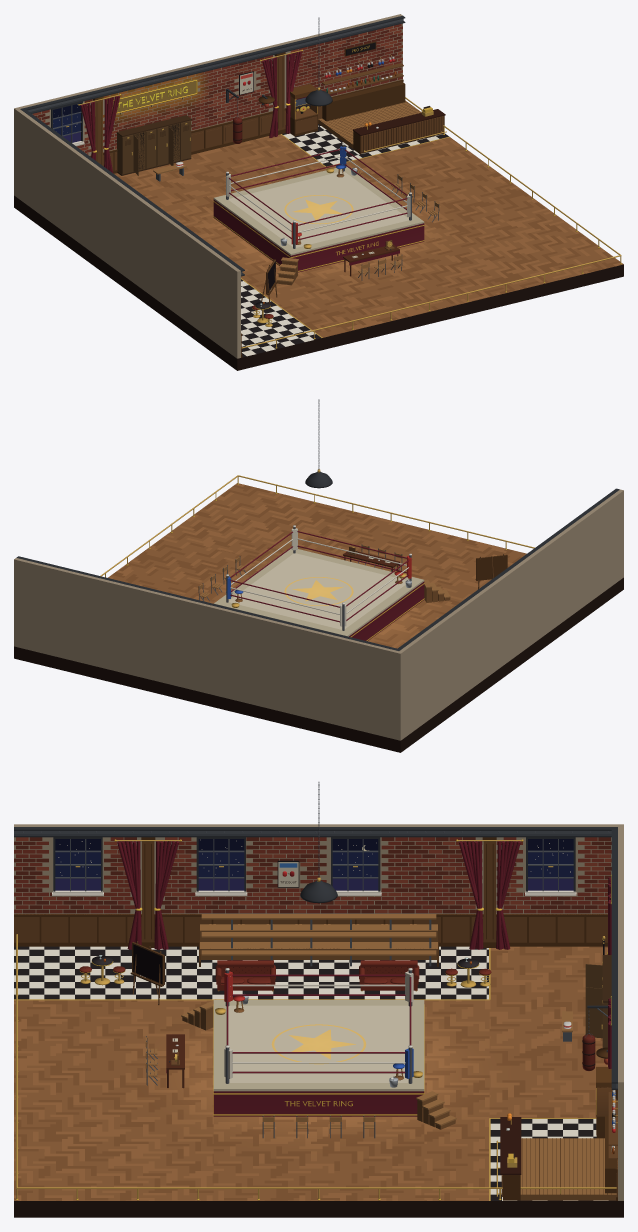
File: boxing_ring.glb
3 views of the same model, one above another, from view 1: azimuth 30°, elevation 25°; view 2: azimuth 150°, elevation 25°; view 3: azimuth 270°, elevation 25° (orthographic). The views are drawn at different scales.
Parts seen in each view (by area): view 1: BoxingRing_Static, Prop_Ropes_s, Prop_Ropes_n; view 2: BoxingRing_Static, Prop_Ropes_n, Prop_Ropes_s; view 3: BoxingRing_Static, Prop_Ropes_w, Prop_Ropes_e, Prop_ChalkSlate.
Part boxes in pixels (bbox=[...]): BoxingRing_Static: bbox=[14, 14, 623, 370]; Prop_Ropes_s: bbox=[298, 198, 407, 240]; Prop_Ropes_n: bbox=[231, 149, 340, 191]; BoxingRing_Static: bbox=[14, 399, 623, 752]; Prop_Ropes_n: bbox=[230, 580, 339, 622]; Prop_Ropes_s: bbox=[297, 531, 406, 573]; BoxingRing_Static: bbox=[14, 782, 623, 1217]; Prop_Ropes_w: bbox=[232, 974, 405, 995]; Prop_Ropes_e: bbox=[232, 1052, 405, 1073]; Prop_ChalkSlate: bbox=[133, 944, 162, 983].
Size of the model in its own units: 20 by 11.12 by 20.
